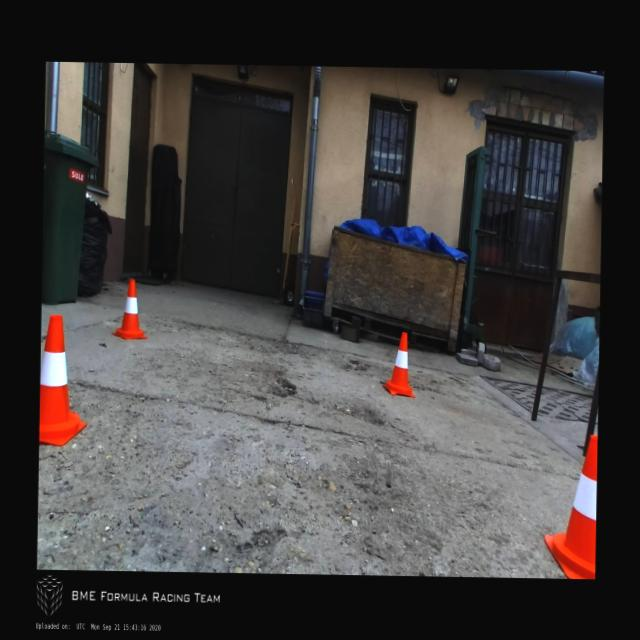orange_cone: (544, 436, 597, 578), (39, 312, 88, 445), (380, 332, 416, 398), (111, 278, 147, 339)
